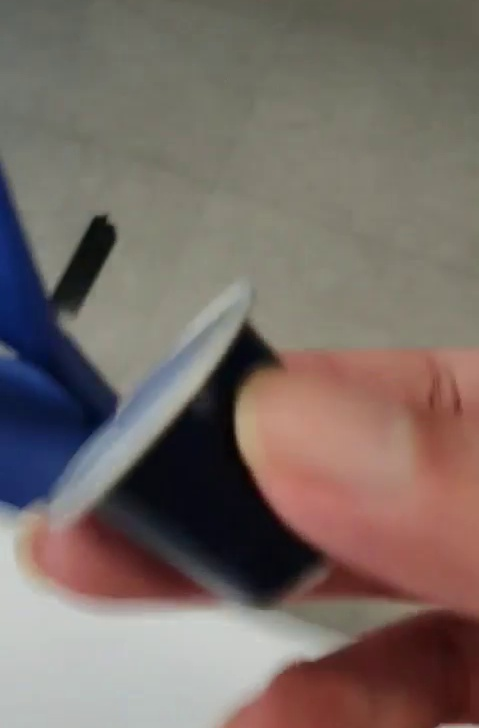capsule_1: (37, 279, 358, 615)
